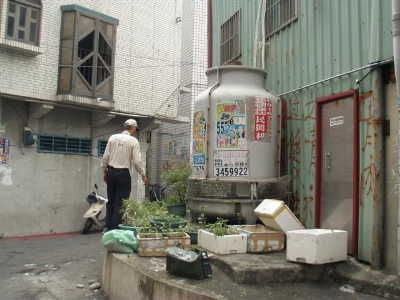plastic_bag: (102, 227, 137, 253)
styrofoam: (285, 227, 347, 265), (254, 197, 305, 231), (196, 227, 247, 255), (135, 233, 190, 257)
water_tower: (186, 64, 281, 225)
